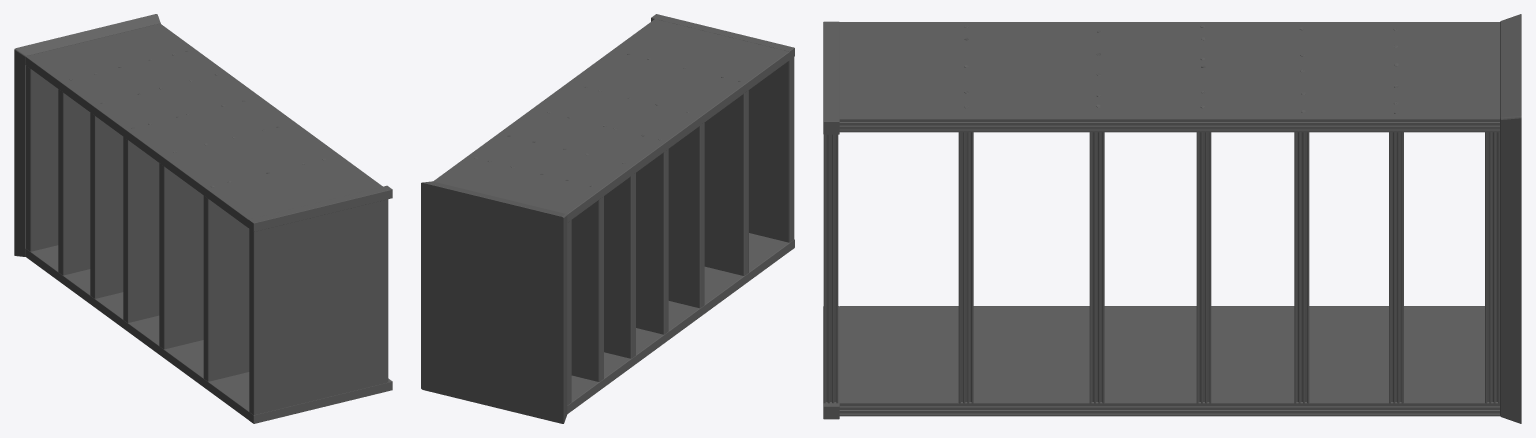
The model's file is shelf.obj.
3 views of the same model, side by side, from view 1: azimuth 30°, elevation 25°; view 2: azimuth 150°, elevation 25°; view 3: azimuth 270°, elevation 25° (orthographic). The views are drawn at different scales.
Parts seen in each view (by area): view 1: shelf.obj; view 2: shelf.obj; view 3: shelf.obj.
Part boxes in pixels (x1,y1,x2,y2): shelf.obj: (14, 14, 392, 423); shelf.obj: (421, 14, 794, 423); shelf.obj: (823, 14, 1521, 423).
Size of the model in its own units: 0.65 by 0.9 by 1.85.
1 material, 1 textured.
